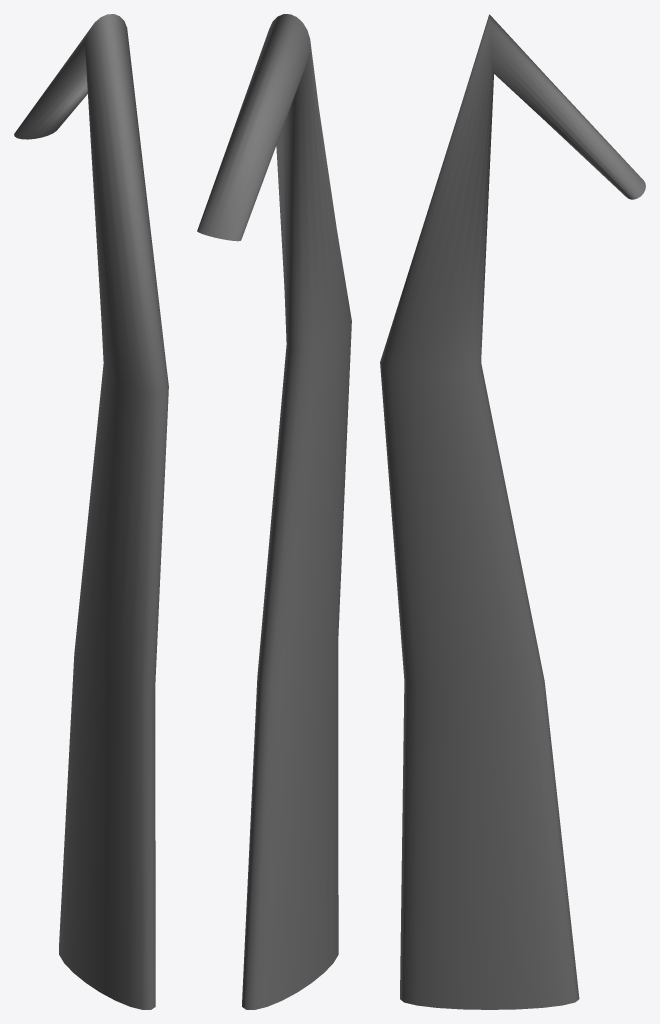
The model's file is Tool_2.fbx.
3 views of the same model, side by side, from view 1: azimuth 30°, elevation 25°; view 2: azimuth 150°, elevation 25°; view 3: azimuth 270°, elevation 25° (orthographic). The views are drawn at different scales.
Parts seen in each view (by area): view 1: Tool_2; view 2: Tool_2; view 3: Tool_2.
Boxes of the visible parts, x1,y1,x2,y2 form: Tool_2: (14, 14, 168, 1009); Tool_2: (197, 14, 351, 1009); Tool_2: (380, 14, 645, 1009).
Size of the model in its own units: 0.00669 by 0.1432 by 0.0351.
1 material, 1 textured.
